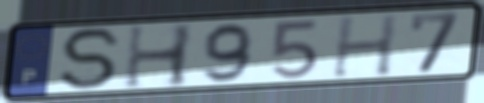5: (267, 16, 324, 81)
7: (407, 8, 464, 76)
9: (201, 21, 256, 84)
H: (120, 22, 197, 92), (328, 12, 401, 79)
S: (57, 26, 126, 93)
